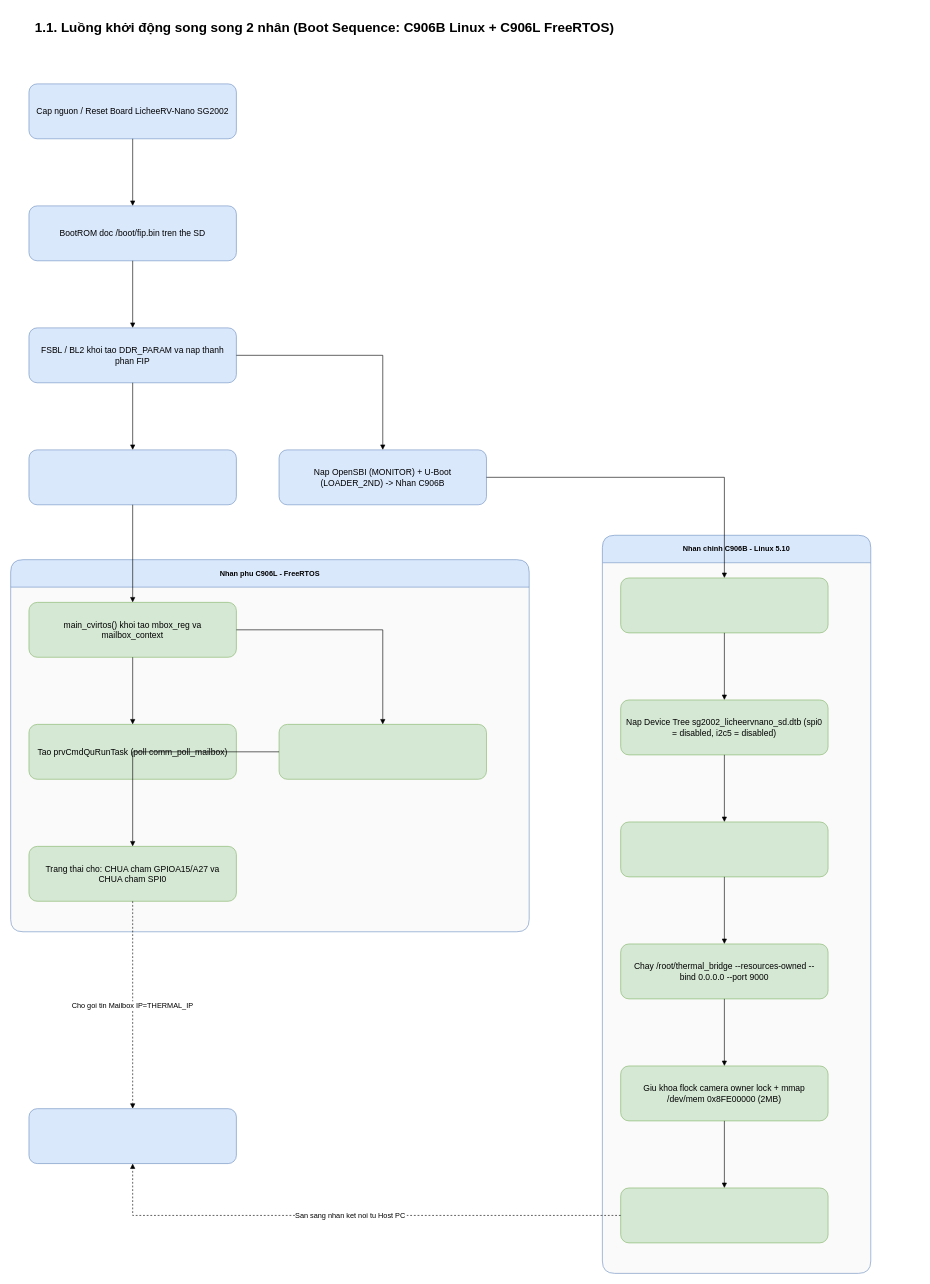
Image size: 930x1284. Some labels were removed from this diagram. Here are the shapes that lost their labels. From the top down, the centre of each, then its label:
pixel 132 477: Nap BLCP_2ND (cvirtos.bin) tai RAM 0x8FE00000 -> Khoi chay nhan C906L
pixel 724 605: U-Boot fatload /boot/boot.sd (FIT Image boot.itb) -> bootm
pixel 382 751: Tao thermal_service_task (cho lenh tren g_thermal_cmd_queue)
pixel 724 849: Nap kernel module soph_rtos_cmdqu.ko -> Tao /dev/cvi-rtos-cmdqu
pixel 132 1136: He thong san sang chay thermal_viewer.py
pixel 724 1215: Lang nghe TCP server cong 9000 (USB 10.250.50.1 / Wi-Fi)
